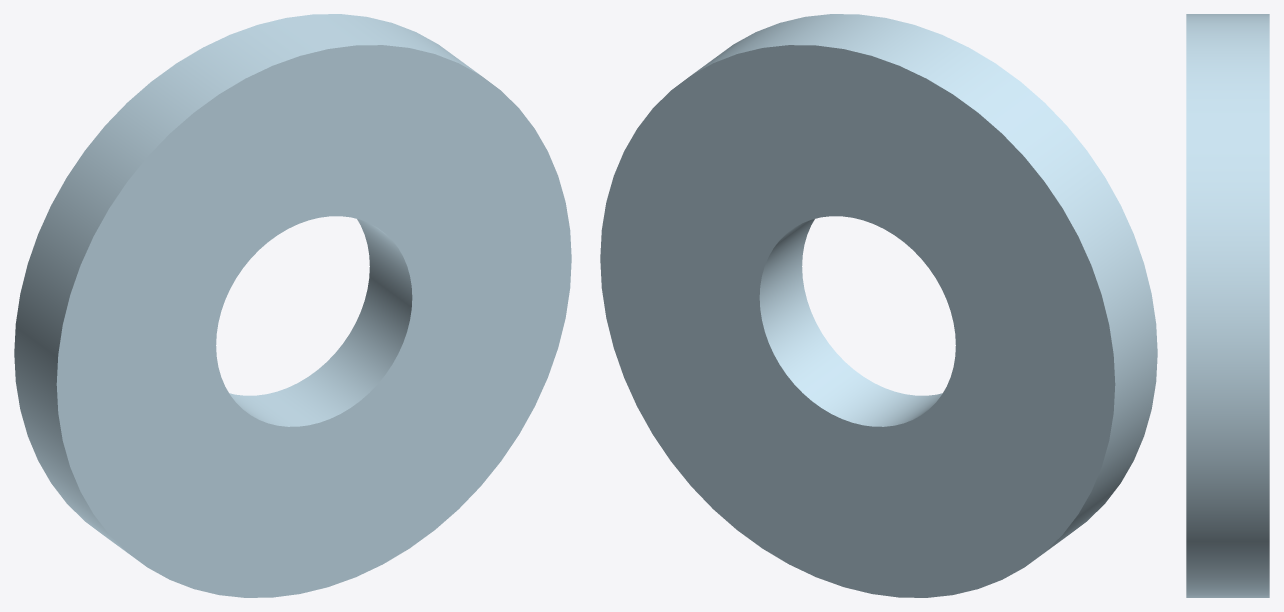
File: Robot_Master Copy 1 - Part 1 (51).gltf
3 views of the same model, side by side, from view 1: azimuth 30°, elevation 25°; view 2: azimuth 150°, elevation 25°; view 3: azimuth 270°, elevation 25° (orthographic).
Parts seen in each view (by area): view 1: Part 1; view 2: Part 1; view 3: Part 1.
Boxes of the visible parts, bbox=[...] form: Part 1: bbox=[14, 14, 571, 597]; Part 1: bbox=[600, 14, 1157, 597]; Part 1: bbox=[1186, 14, 1269, 597].
Bounding box in the file's own units: 0.021 × 0.021 × 0.003.
